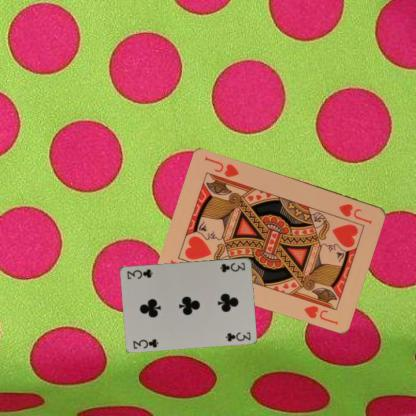3c: (130, 336, 160, 350), (218, 260, 247, 273)
Jh: (336, 200, 374, 225)
